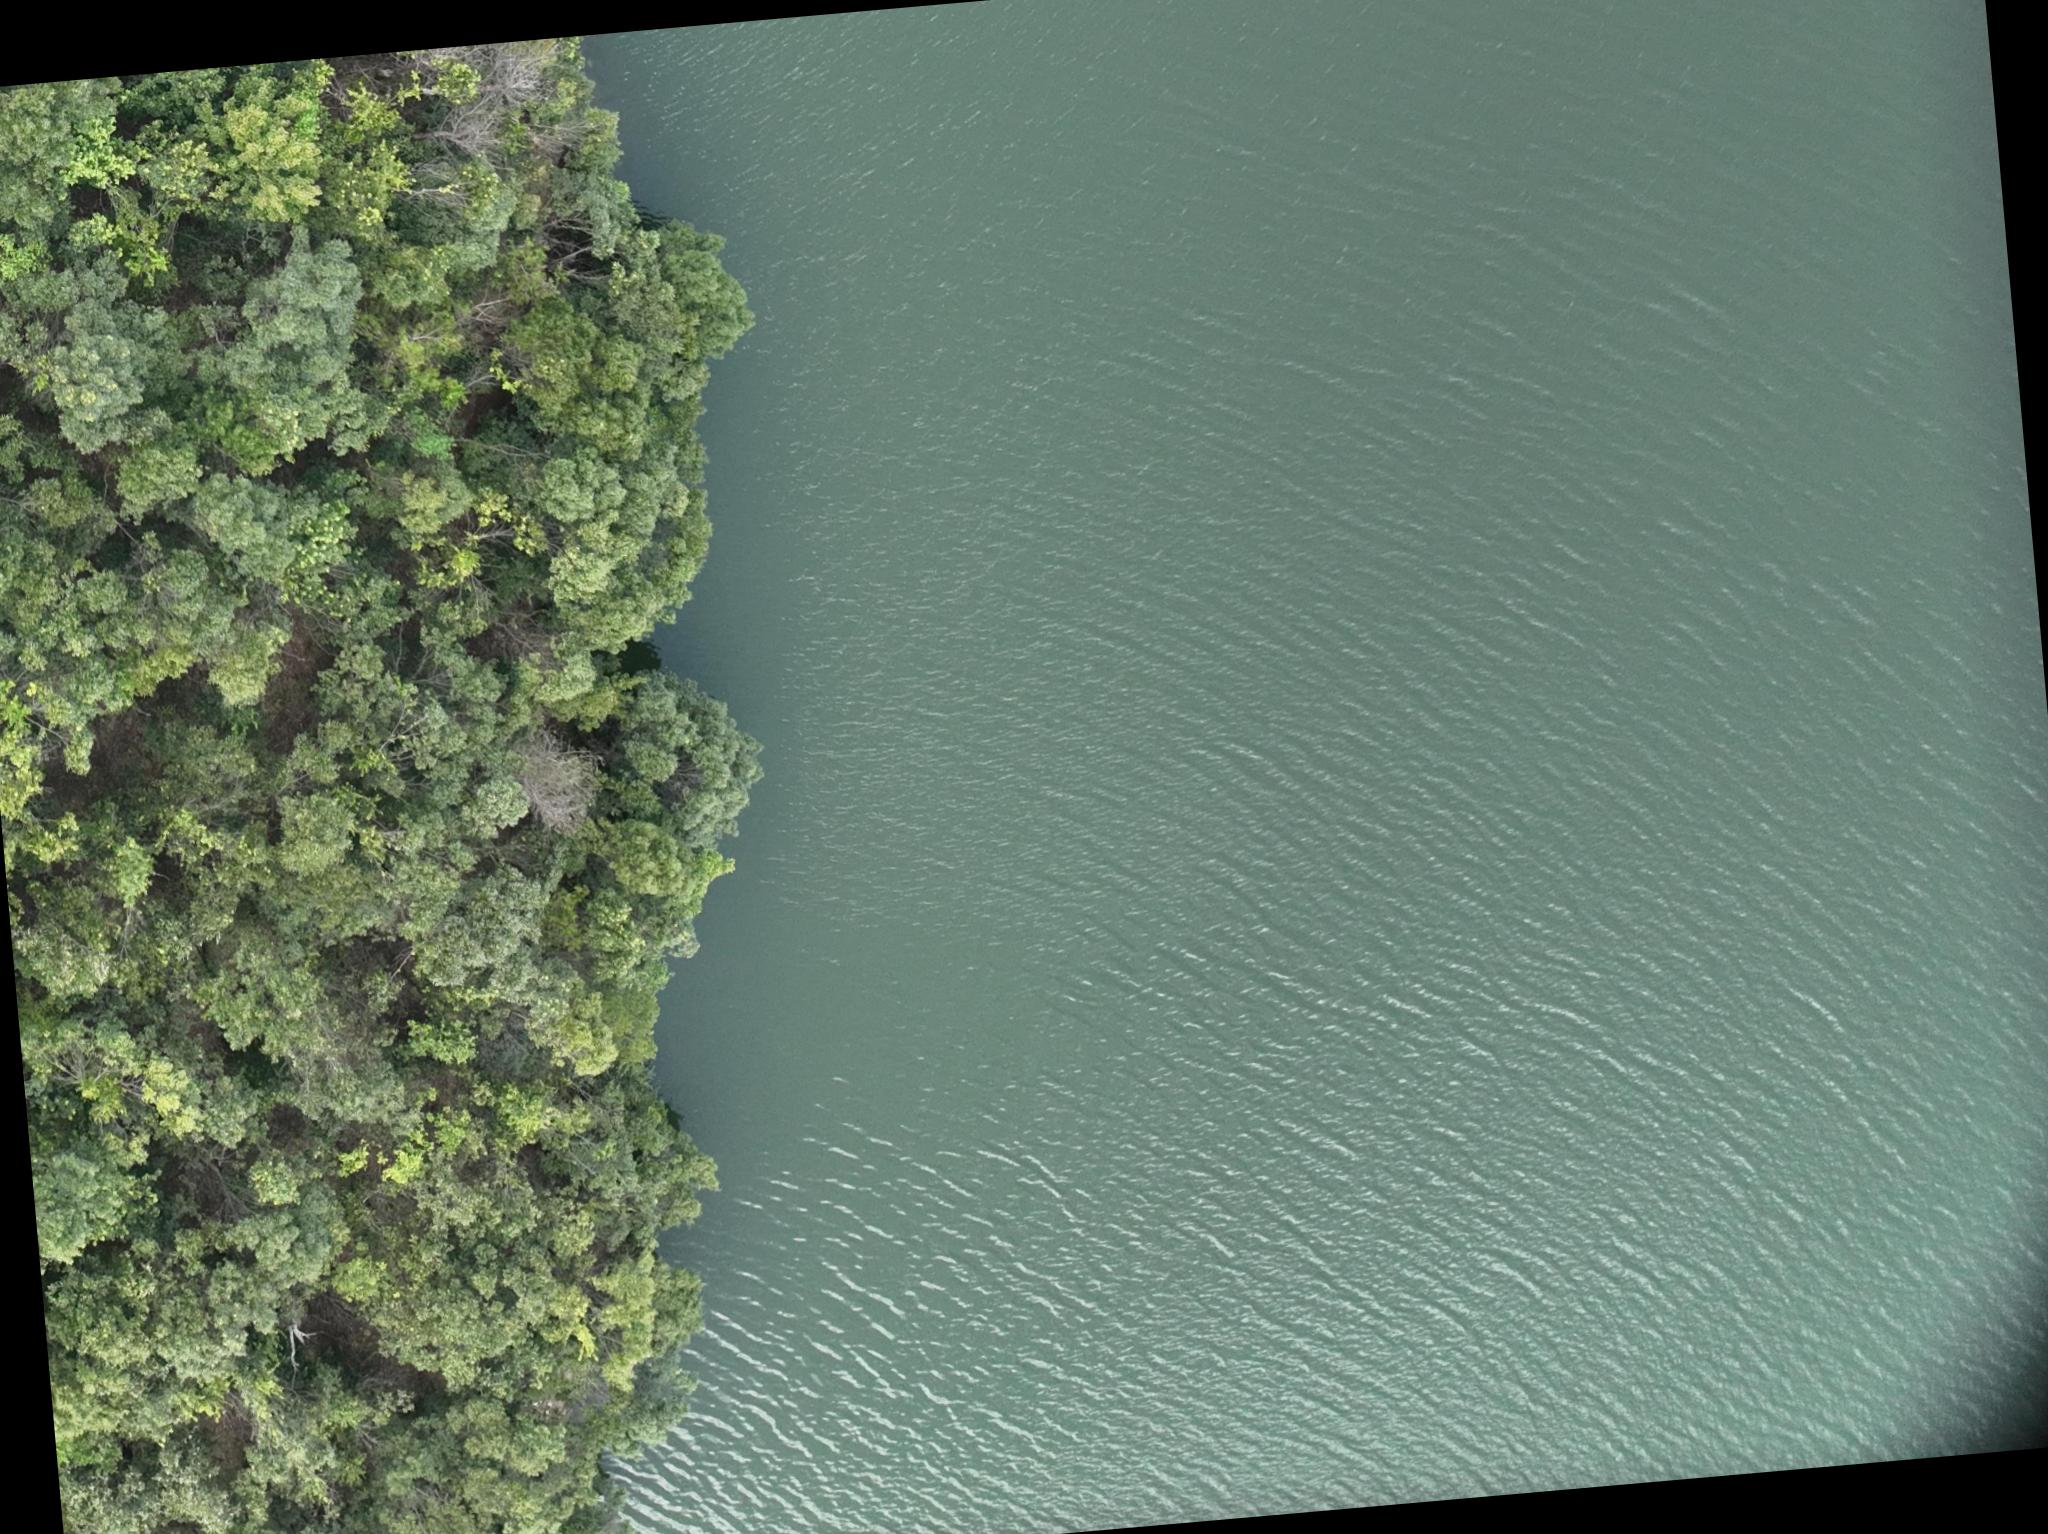dead: (446, 42, 580, 161), (512, 730, 601, 835)
